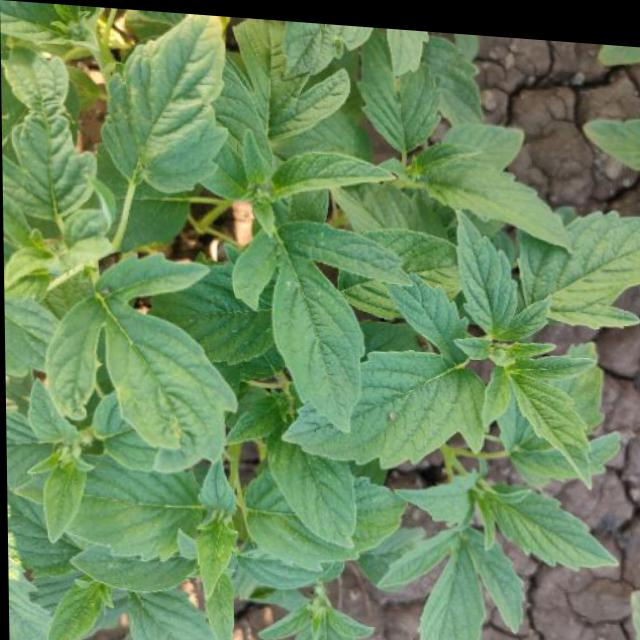crop: (16, 19, 621, 640)
